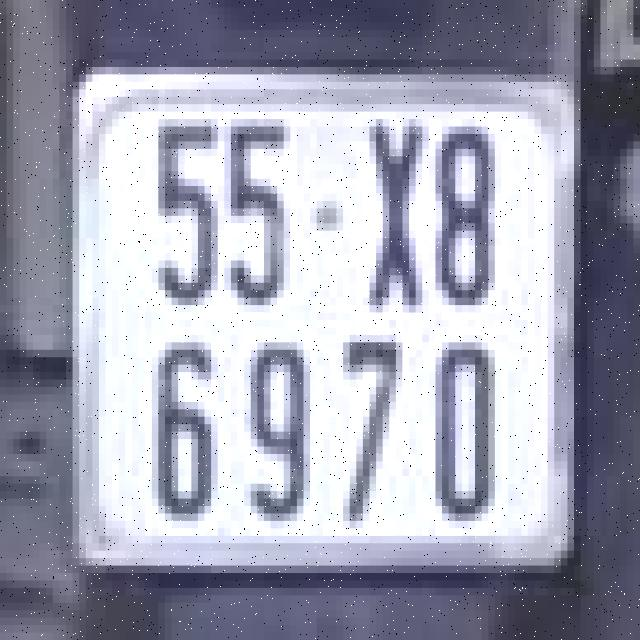0: (429, 335, 508, 536)
5: (145, 115, 224, 309), (221, 112, 294, 305)
6: (142, 328, 214, 528)
7: (333, 328, 406, 528)
8: (436, 108, 502, 309)
9: (238, 331, 324, 532)
X: (363, 111, 429, 312)
